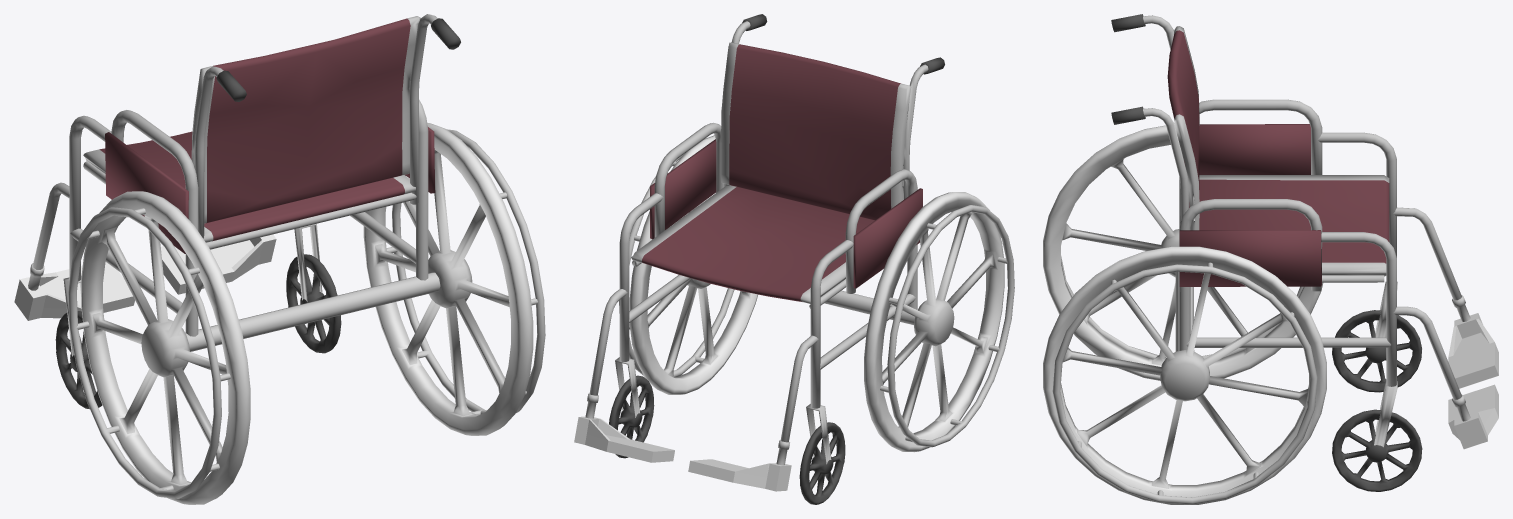
The model's file is wheel_chair.dae.
The picture shows the model from 3 angles, left to right: view 1: azimuth 30°, elevation 25°; view 2: azimuth 150°, elevation 25°; view 3: azimuth 270°, elevation 25°; orthographic projection. The views are drawn at different scales.
Parts seen in each view (by area): view 1: WheelChair_Mat, WheelChair_BigWheel_Left, WheelChair_BigWheel_RIght, WheelChair_Frame, FeetSupport, WheelChair_BigWheel_Axis, WheelChair_SmallWheel_Right, WheelChair_SmallWheel_Left, WheelChair_Handle; view 2: WheelChair_Mat, WheelChair_BigWheel_Left, WheelChair_Frame, WheelChair_BigWheel_RIght, FeetSupport, WheelChair_SmallWheel_Left, WheelChair_SmallWheel_Right, WheelChair_BigWheel_Axis, WheelChair_Handle; view 3: WheelChair_BigWheel_RIght, WheelChair_Mat, WheelChair_Frame, WheelChair_BigWheel_Left, FeetSupport, WheelChair_SmallWheel_Right, WheelChair_SmallWheel_Left, WheelChair_Handle, WheelChair_BigWheel_Axis.
Part boxes in pixels (x1=…): WheelChair_Mat: x1=99, y1=18, x2=435, y2=253; WheelChair_BigWheel_Left: x1=68, y1=191, x2=250, y2=504; WheelChair_BigWheel_RIght: x1=363, y1=123, x2=545, y2=435; WheelChair_Frame: x1=28, y1=14, x2=437, y2=356; FeetSupport: x1=14, y1=234, x2=276, y2=320; WheelChair_BigWheel_Axis: x1=185, y1=272, x2=440, y2=351; WheelChair_SmallWheel_Right: x1=286, y1=254, x2=341, y2=353; WheelChair_SmallWheel_Left: x1=55, y1=311, x2=102, y2=409; WheelChair_Handle: x1=216, y1=18, x2=460, y2=101; WheelChair_Mat: x1=642, y1=44, x2=922, y2=301; WheelChair_BigWheel_Left: x1=864, y1=192, x2=1014, y2=452; WheelChair_Frame: x1=585, y1=21, x2=928, y2=465; WheelChair_BigWheel_RIght: x1=619, y1=135, x2=757, y2=394; FeetSupport: x1=574, y1=416, x2=791, y2=491; WheelChair_SmallWheel_Left: x1=799, y1=422, x2=845, y2=504; WheelChair_SmallWheel_Right: x1=609, y1=375, x2=654, y2=458; WheelChair_BigWheel_Axis: x1=824, y1=290, x2=917, y2=324; WheelChair_Handle: x1=742, y1=14, x2=944, y2=74; WheelChair_BigWheel_RIght: x1=1043, y1=246, x2=1326, y2=504; WheelChair_Mat: x1=1167, y1=30, x2=1389, y2=286; WheelChair_Frame: x1=1143, y1=15, x2=1470, y2=447; WheelChair_BigWheel_Left: x1=1043, y1=125, x2=1323, y2=380; FeetSupport: x1=1448, y1=313, x2=1498, y2=449; WheelChair_SmallWheel_Right: x1=1332, y1=409, x2=1422, y2=491; WheelChair_SmallWheel_Left: x1=1332, y1=310, x2=1421, y2=392; WheelChair_Handle: x1=1111, y1=14, x2=1145, y2=124; WheelChair_BigWheel_Axis: x1=1175, y1=271, x2=1194, y2=351.
Size of the model in its own units: 0.631 by 0.8498 by 0.7872.
